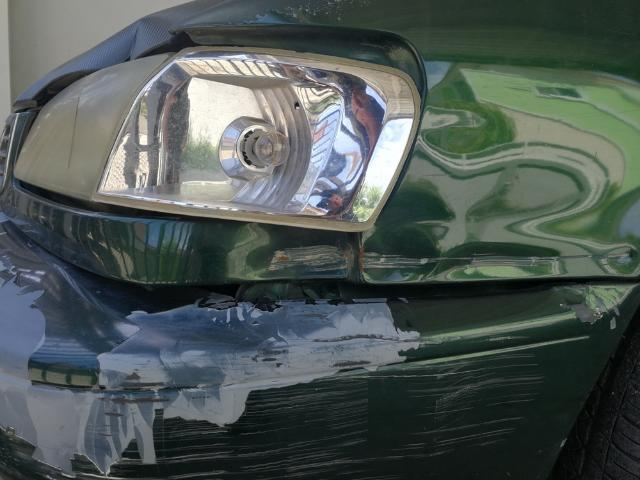dent: (359, 99, 640, 280), (248, 236, 354, 278)
lamp broken: (93, 48, 422, 232)
scratch: (58, 300, 538, 480)
